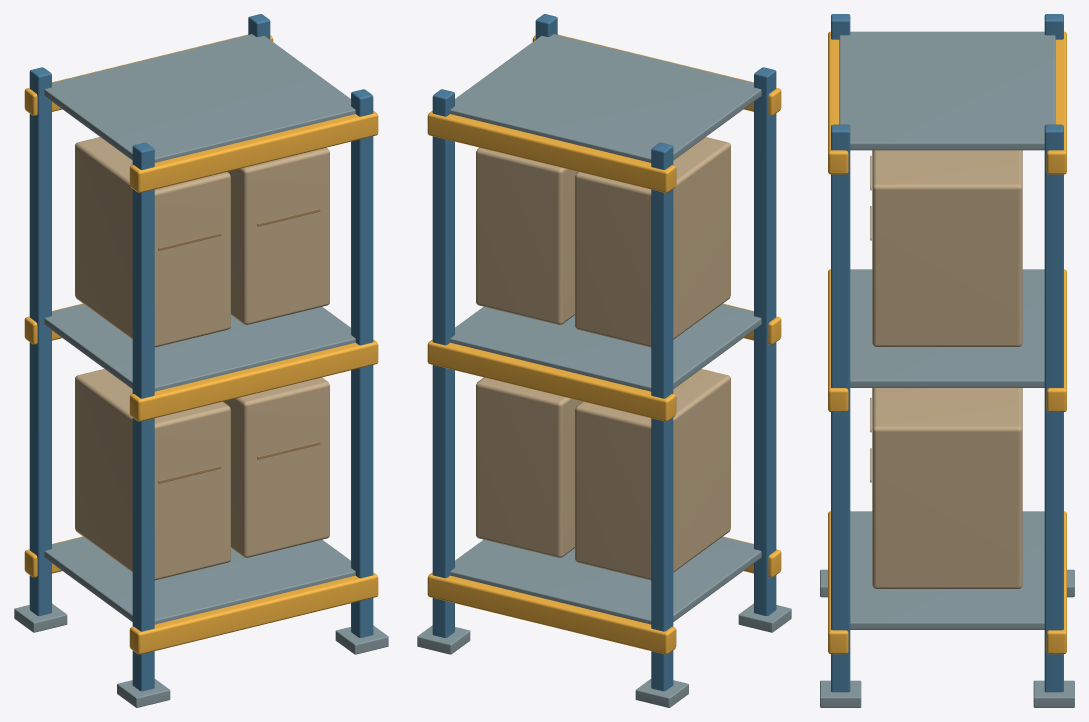
File: rack-module.glb
The picture shows the model from 3 angles, left to right: view 1: azimuth 30°, elevation 25°; view 2: azimuth 150°, elevation 25°; view 3: azimuth 270°, elevation 25°; orthographic projection. The views are drawn at different scales.
Visible parts, largest first — view 1: ventilated steel shelf.002, carton on rack, carton on rack.002, carton on rack.001, carton on rack.003, ventilated steel shelf, ventilated steel shelf.001, rack upright.001, rack upright, rack upright.002, safety orange beam, safety orange beam.002 (+5 smaller); view 2: ventilated steel shelf.002, carton on rack, carton on rack.002, carton on rack.001, carton on rack.003, ventilated steel shelf, ventilated steel shelf.001, rack upright, rack upright.001, rack upright.003, safety orange beam.001, safety orange beam.003 (+5 smaller); view 3: carton on rack.001, carton on rack.003, ventilated steel shelf.002, ventilated steel shelf, ventilated steel shelf.001, rack upright.002, rack upright.003, safety orange beam.004, safety orange beam.005, rack foot plate.002, rack foot plate.003, safety orange beam (+5 smaller).
Boxes of the visible parts, box(x1,y1,x2,y2) form: ventilated steel shelf.002: box(44, 34, 355, 162); carton on rack: box(75, 369, 230, 580); carton on rack.002: box(75, 137, 230, 347); carton on rack.001: box(223, 377, 329, 557); carton on rack.003: box(227, 147, 329, 324); ventilated steel shelf: box(44, 537, 355, 624); ventilated steel shelf.001: box(44, 304, 355, 391); rack upright.001: box(29, 67, 51, 615); rack upright: box(132, 142, 154, 691); rack upright.002: box(351, 89, 373, 637); safety orange beam: box(129, 572, 378, 654); safety orange beam.002: box(129, 339, 378, 421); ventilated steel shelf.002: box(450, 34, 761, 162); carton on rack: box(575, 369, 730, 580); carton on rack.002: box(575, 137, 730, 347); carton on rack.001: box(476, 377, 582, 557); carton on rack.003: box(476, 147, 578, 324); ventilated steel shelf: box(450, 537, 761, 624); ventilated steel shelf.001: box(450, 304, 761, 391); rack upright: box(754, 67, 776, 615); rack upright.001: box(651, 142, 673, 691); rack upright.003: box(432, 89, 454, 637); safety orange beam.001: box(427, 572, 676, 654); safety orange beam.003: box(427, 339, 676, 421); carton on rack.001: box(872, 388, 1022, 588); carton on rack.003: box(872, 150, 1022, 346); ventilated steel shelf.002: box(839, 31, 1055, 150); ventilated steel shelf: box(850, 511, 1044, 629); ventilated steel shelf.001: box(850, 269, 1044, 387); rack upright.002: box(831, 124, 850, 692); rack upright.003: box(1044, 124, 1063, 692); safety orange beam.004: box(828, 31, 848, 174); safety orange beam.005: box(1046, 31, 1066, 174); rack foot plate.002: box(820, 680, 861, 707); rack foot plate.003: box(1033, 680, 1074, 707); safety orange beam: box(828, 511, 848, 654).
Bounding box in the file's own units: 1.25 × 2.6 × 1.05.
